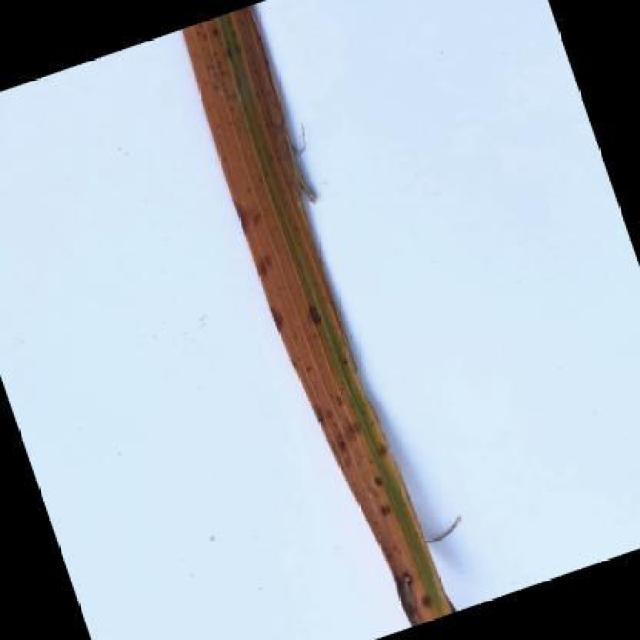Rice False Smut: (172, 0, 473, 635)
